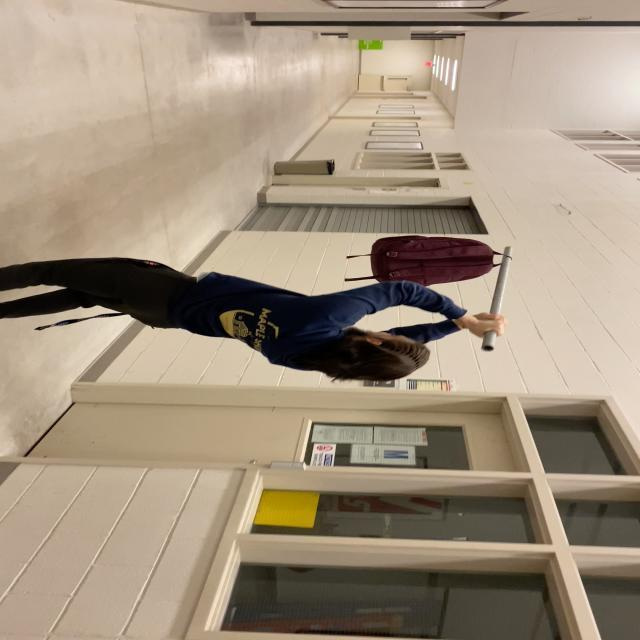Backpacks: (372, 236, 497, 286)
